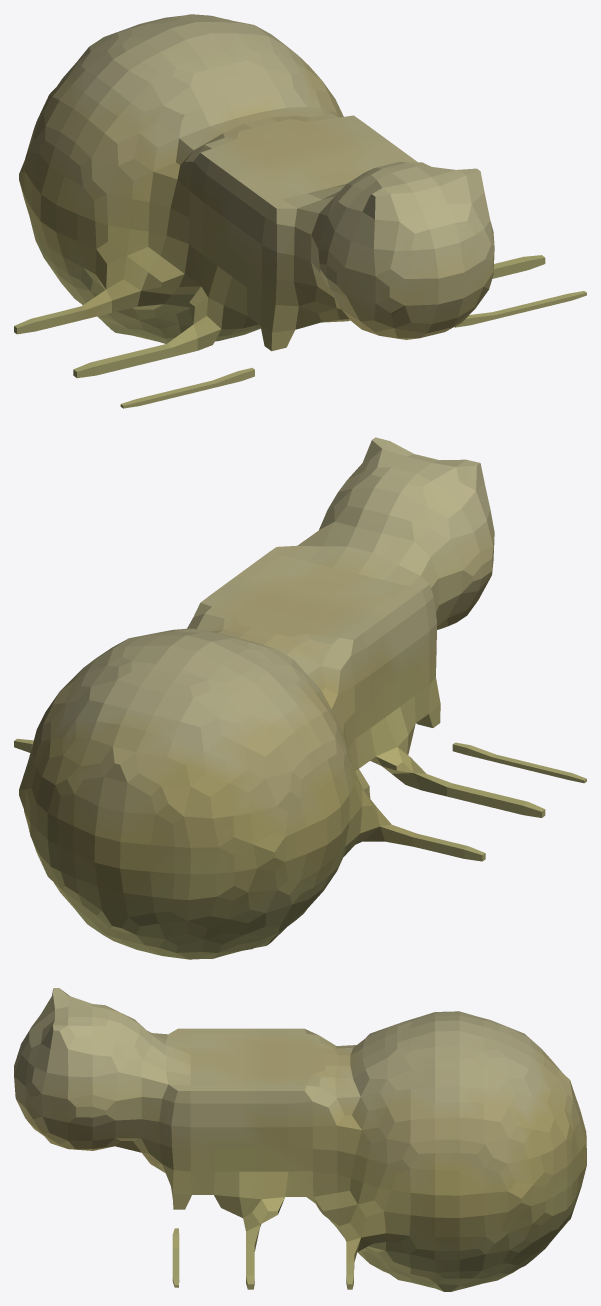
Rendered from stagBeetle.glb.
3 views of the same model, one above another, from view 1: azimuth 30°, elevation 25°; view 2: azimuth 150°, elevation 25°; view 3: azimuth 270°, elevation 25° (orthographic). The views are drawn at different scales.
Visible parts, largest first — view 1: geometry_0; view 2: geometry_0; view 3: geometry_0.
Boxes of the visible parts, x1,y1,x2,y2 form: geometry_0: (14,14,586,408); geometry_0: (14,437,586,959); geometry_0: (14,988,586,1291).
Bounding box in the file's own units: 1.3 × 0.8487 × 1.66.
1 material, 1 textured.
